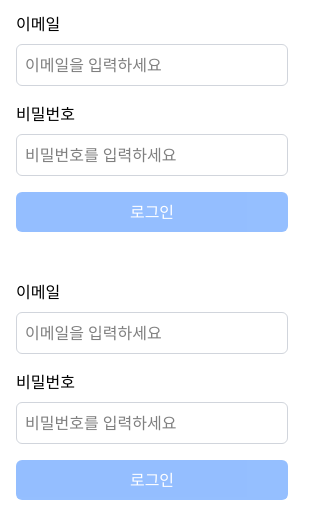
Test: 로그인 폼 테스트 › 버튼 활성화 테스트 › 이메일, 비밀번호 입력 시 로그인 버튼 활성화되는지 확인
// 입력 필드에 값을 입력하여 로그인 버튼 활성화된지 확인
In the field labelled "이메일": (152, 65) x1=16 y1=44 x2=288 y2=86, type "X2b1o@example.com"
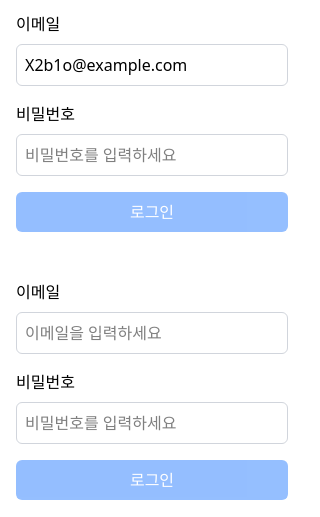
In the password field labelled "비밀번호": (152, 155) x1=16 y1=134 x2=288 y2=176, type "123456"
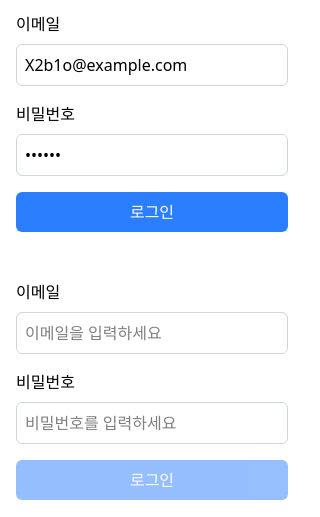
expect the 1st button "로그인" is enabled: met, box x1=16 y1=192 x2=288 y2=232
